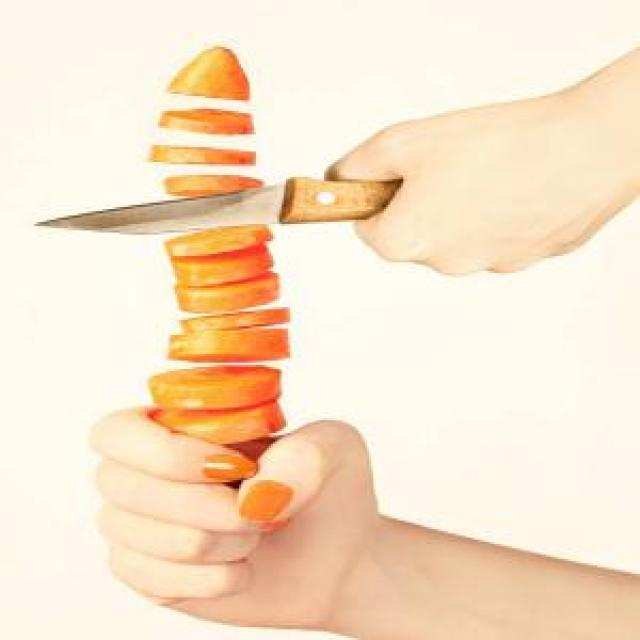knife: (32, 173, 432, 237)
